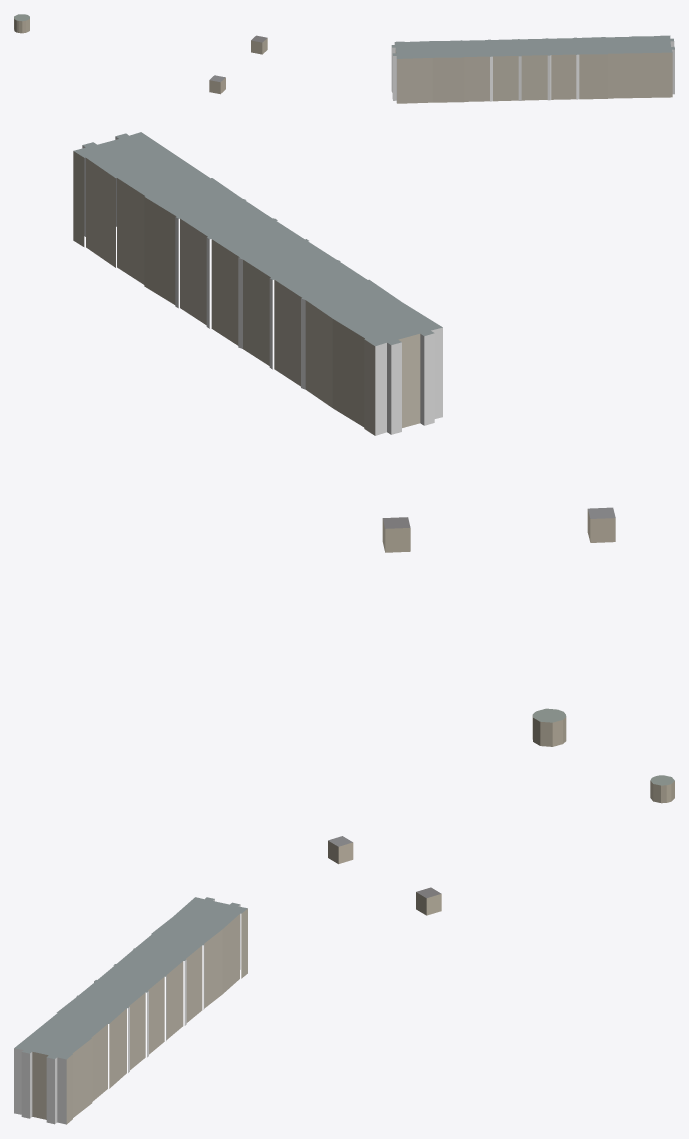
3 renders of one model, top to bottom at view 1: azimuth 30°, elevation 25°; view 2: azimuth 150°, elevation 25°; view 3: azimuth 270°, elevation 25°, orthographic. The views are drawn at different scales.
Visible parts, largest first — view 1: tuile; view 2: tuile; view 3: tuile.
Part boxes in pixels (x1,y1,x2,y2): tuile: [14, 14, 674, 103]; tuile: [73, 132, 615, 746]; tuile: [14, 775, 674, 1124].
Size of the model in its own units: 190 by 18.11 by 167.
